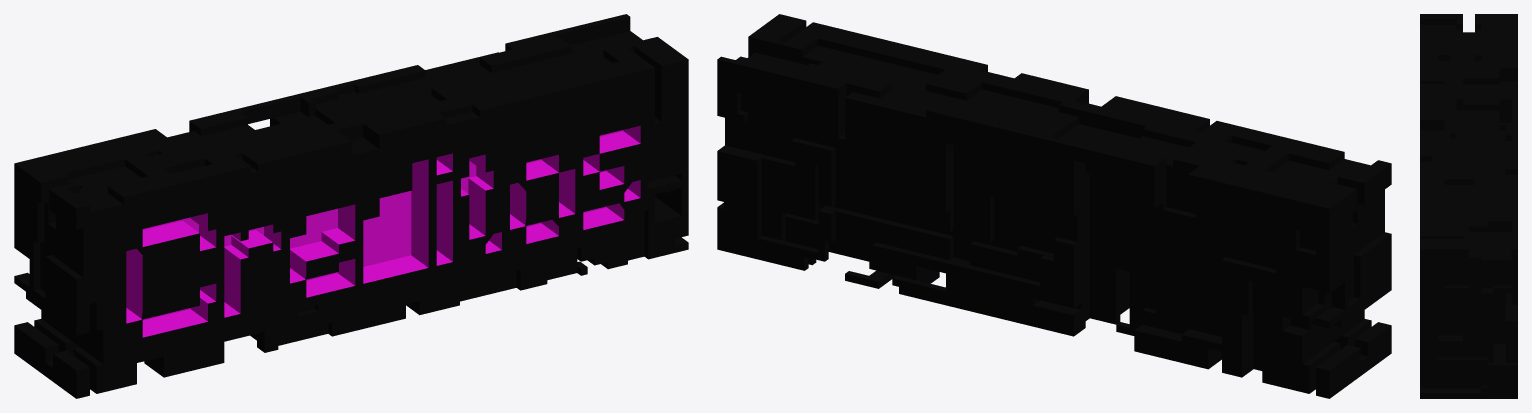
File: Creditos.fbx
The picture shows the model from 3 angles, left to right: view 1: azimuth 30°, elevation 25°; view 2: azimuth 150°, elevation 25°; view 3: azimuth 270°, elevation 25°; orthographic projection. The views are drawn at different scales.
Visible parts, largest first — view 1: Rect5; view 2: Rect5; view 3: Rect5.
Part boxes in pixels (x1,y1,x2,y2): Rect5: [14, 14, 688, 398]; Rect5: [717, 14, 1391, 398]; Rect5: [1420, 14, 1517, 398].
Bounding box in the file's own units: 9.1 × 2.7 × 1.6.
